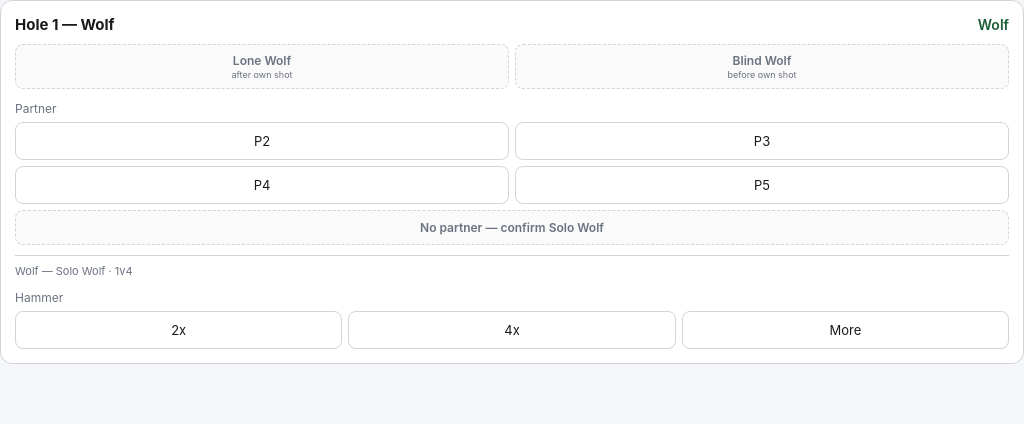
Test: WolfHoleCard — Hammer entry › More reveals 8x/16x/32x
The image size is (1024, 424).
Expected: the text "8x" is not shown
Click the button "More" at (845, 330), box [682, 311, 1009, 349]
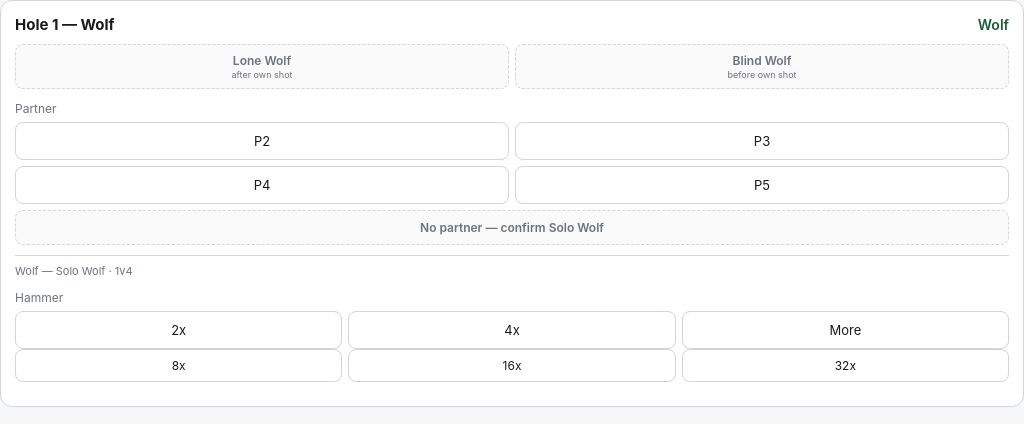
Now the button "8x" is shown, box [15, 349, 342, 382]
Now the button "16x" is shown, box [348, 349, 676, 382]
Now the button "32x" is shown, box [682, 349, 1009, 382]
